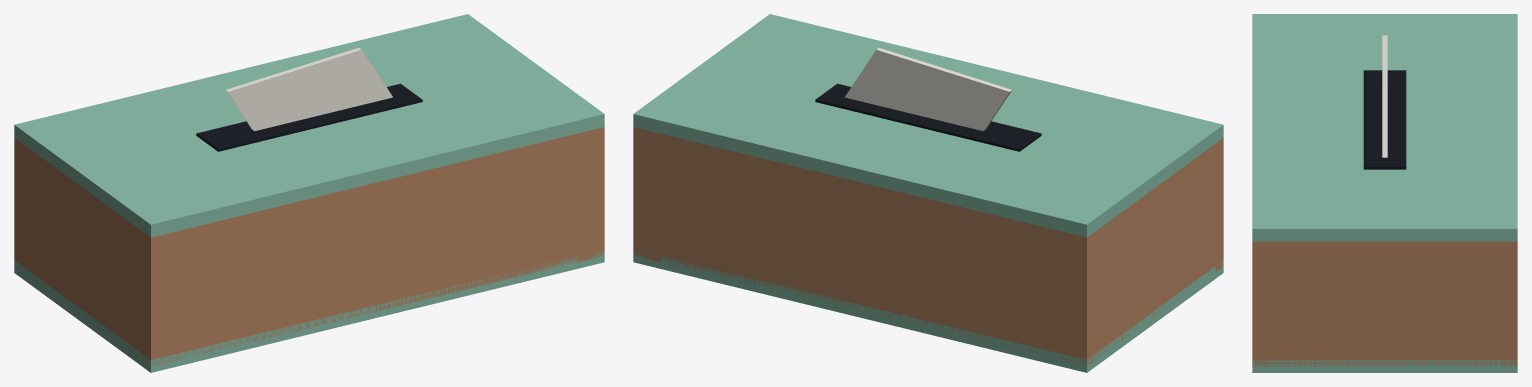
File: tissue-box.glb
The picture shows the model from 3 angles, left to right: view 1: azimuth 30°, elevation 25°; view 2: azimuth 150°, elevation 25°; view 3: azimuth 270°, elevation 25°; orthographic projection. The views are drawn at different scales.
Parts seen in each view (by area): view 1: tissue-box; view 2: tissue-box; view 3: tissue-box.
Boxes of the visible parts, x1,y1,x2,y2 form: tissue-box: (14,14,604,372); tissue-box: (633,14,1223,372); tissue-box: (1252,14,1517,372).
Size of the model in its own units: 23 by 10 by 12.
